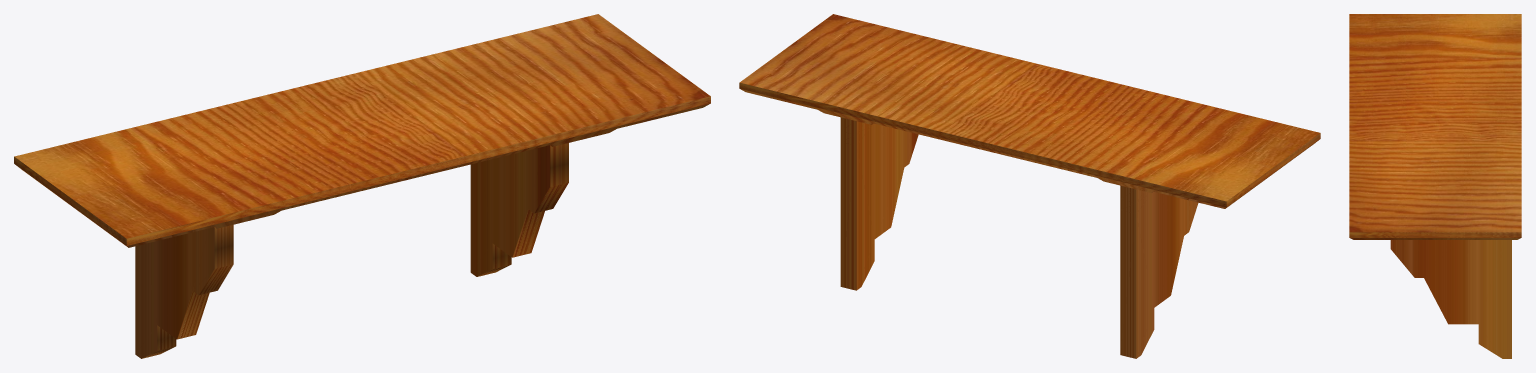
The model's file is shelf.fbx.
The picture shows the model from 3 angles, left to right: view 1: azimuth 30°, elevation 25°; view 2: azimuth 150°, elevation 25°; view 3: azimuth 270°, elevation 25°; orthographic projection. The views are drawn at different scales.
Parts seen in each view (by area): view 1: shelf; view 2: shelf; view 3: shelf.
Part boxes in pixels (left/top/right/bottom): shelf: left=14, top=14, right=710, bottom=358; shelf: left=739, top=14, right=1320, bottom=358; shelf: left=1349, top=14, right=1521, bottom=358.
Size of the model in its own units: 120 by 43.46 by 40.
